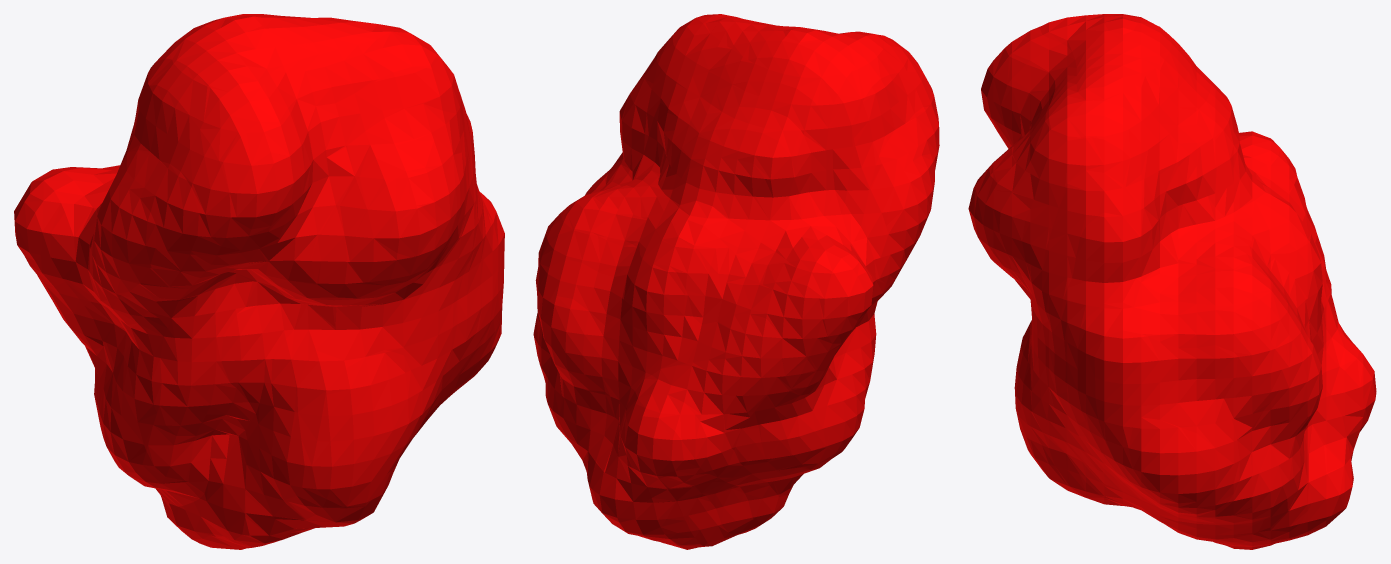
Rendered from rcsB_coarse.dae.
3 views of the same model, side by side, from view 1: azimuth 30°, elevation 25°; view 2: azimuth 150°, elevation 25°; view 3: azimuth 270°, elevation 25° (orthographic). The views are drawn at different scales.
Parts seen in each view (by area): view 1: rcsB; view 2: rcsB; view 3: rcsB.
Boxes of the visible parts, x1,y1,x2,y2 form: rcsB: (14,14,504,549); rcsB: (533,14,939,549); rcsB: (968,14,1376,549).
Bounding box in the file's own units: 44.21 × 56.57 × 42.
